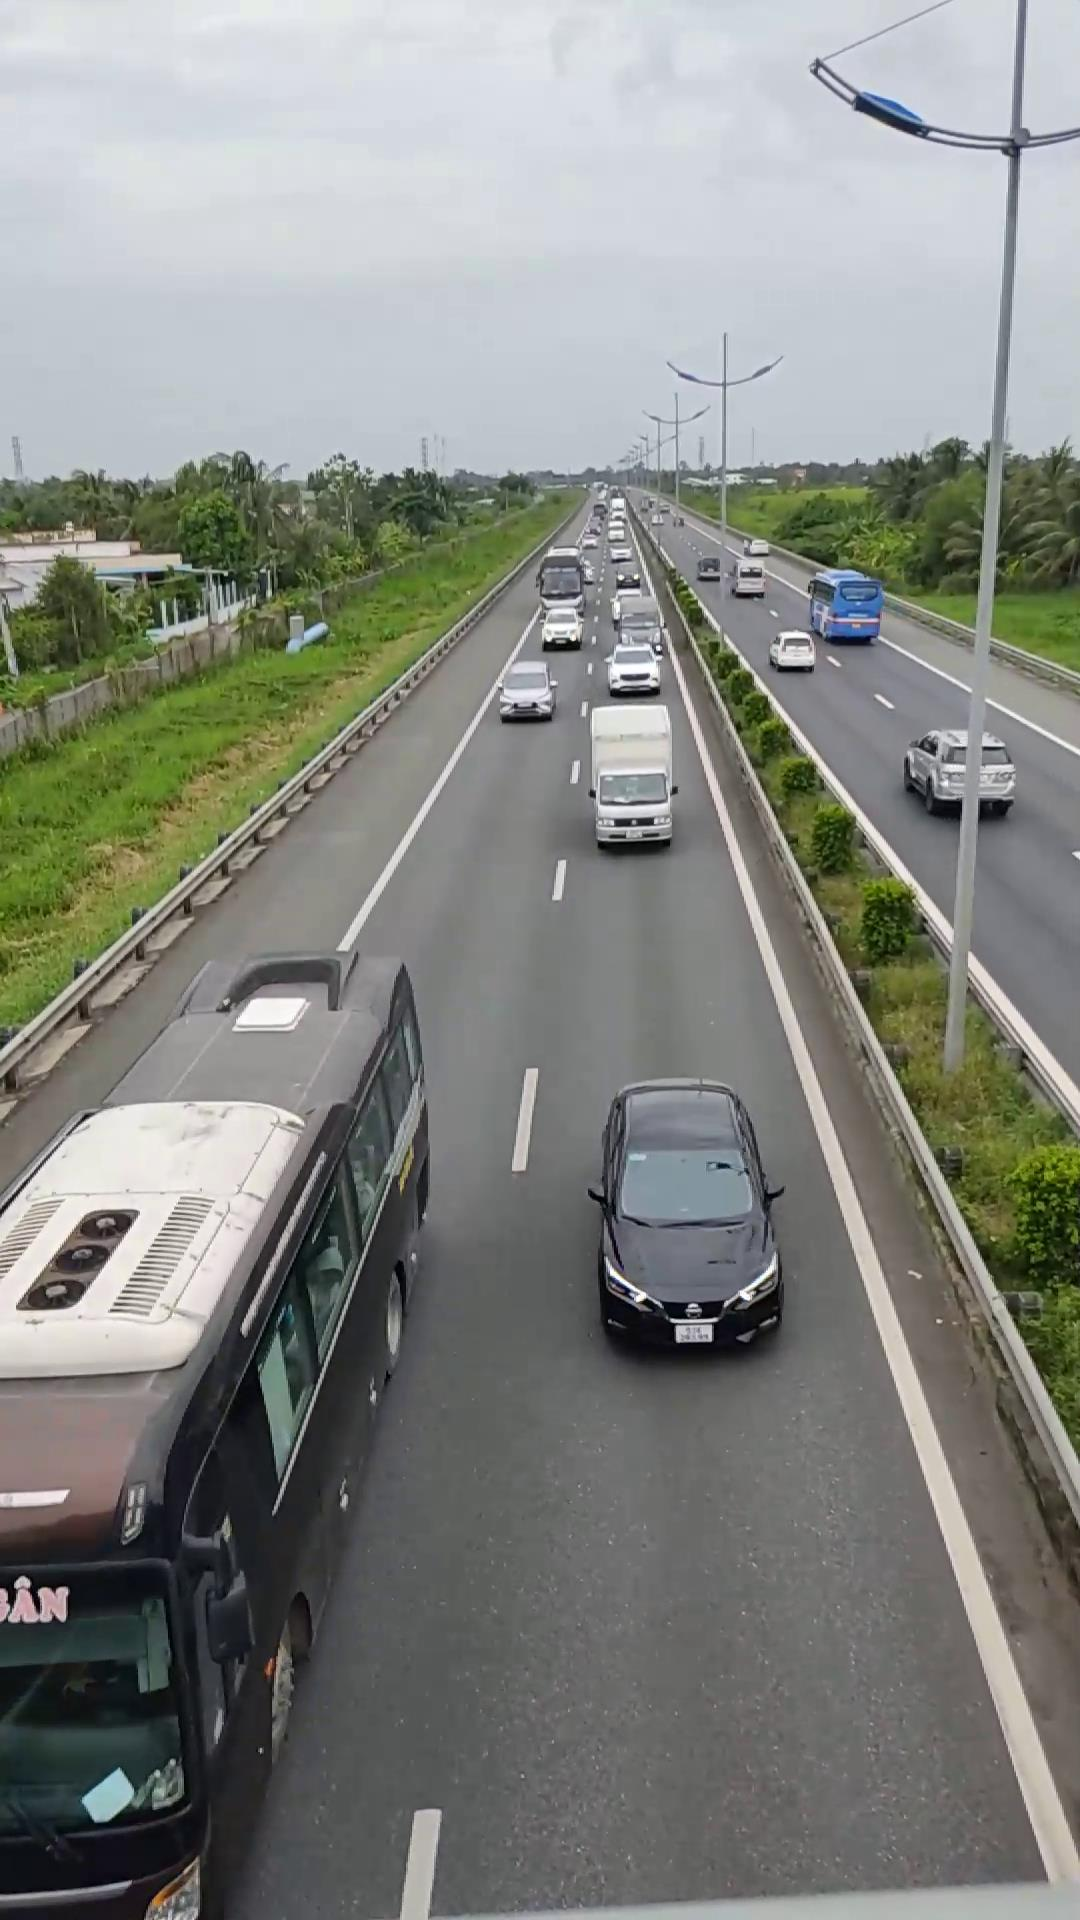bus: (0, 931, 437, 1919)
car: (590, 1076, 789, 1353)
truck: (580, 698, 681, 848)
